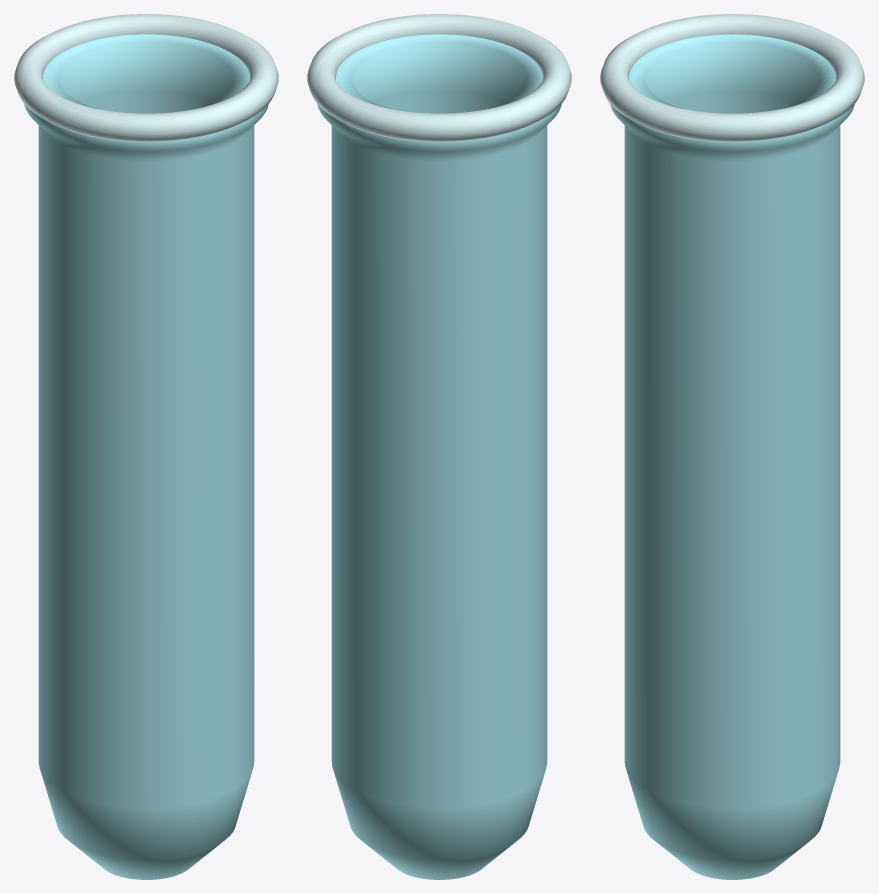
3 views of the same model, side by side, from view 1: azimuth 30°, elevation 25°; view 2: azimuth 150°, elevation 25°; view 3: azimuth 270°, elevation 25° (orthographic).
Parts seen in each view (by area): view 1: test_tube; view 2: test_tube; view 3: test_tube.
Boxes of the visible parts, x1=… form: test_tube: x1=14, y1=14, x2=278, y2=879; test_tube: x1=307, y1=14, x2=571, y2=879; test_tube: x1=600, y1=14, x2=864, y2=879.
Bounding box in the file's own units: 0.442 × 1.48 × 0.442.
